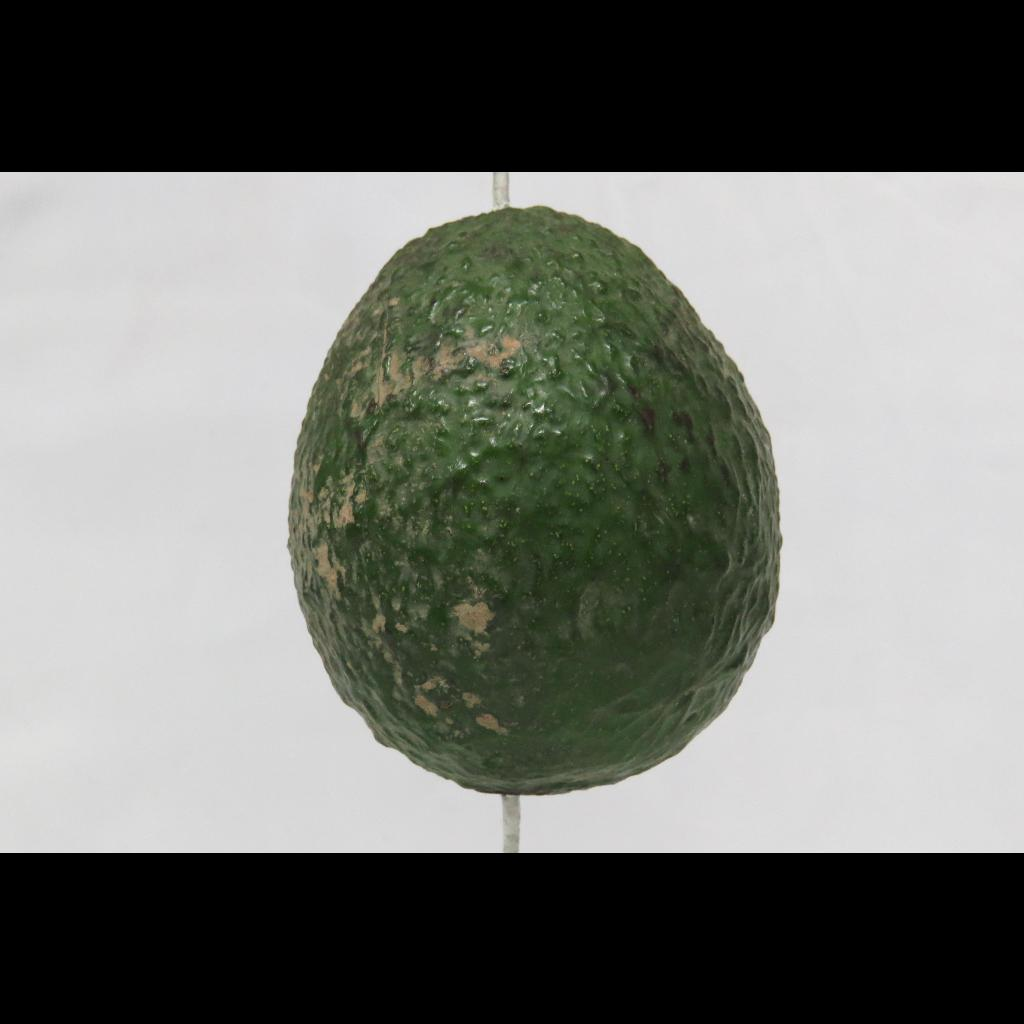Healthy: (244, 186, 814, 832)
